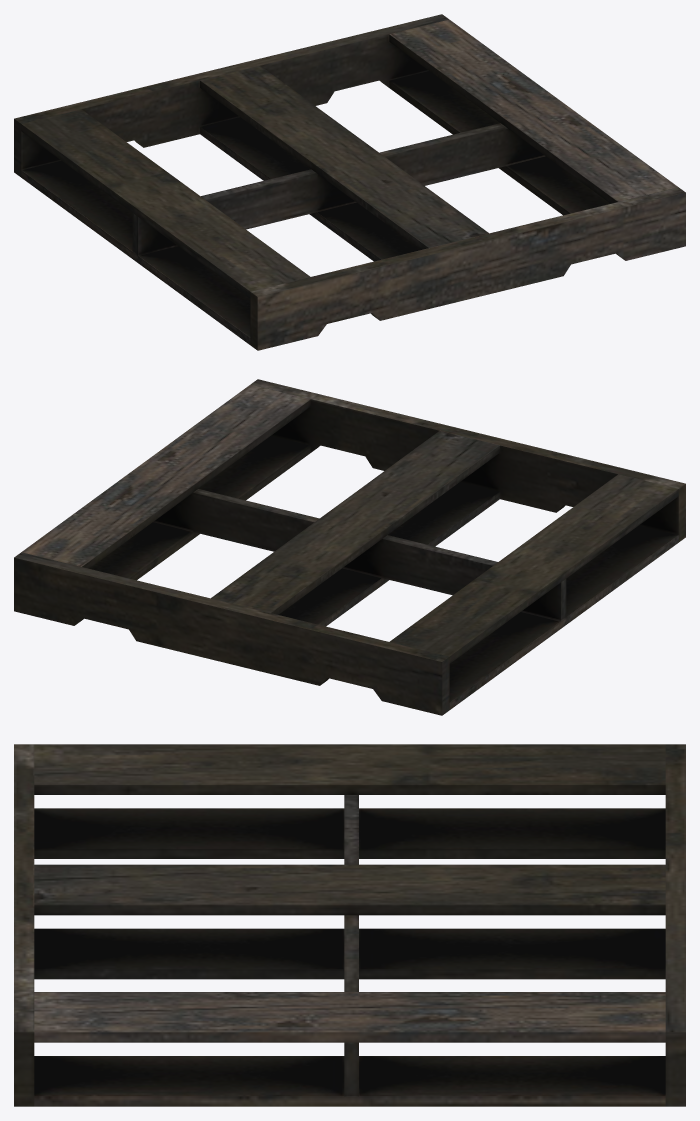
File: CrateBaseStand_L.FBX
3 views of the same model, one above another, from view 1: azimuth 30°, elevation 25°; view 2: azimuth 150°, elevation 25°; view 3: azimuth 270°, elevation 25° (orthographic). The views are drawn at different scales.
Parts seen in each view (by area): view 1: CrateBaseStand_L; view 2: CrateBaseStand_L; view 3: CrateBaseStand_L.
Boxes of the visible parts, x1=… form: CrateBaseStand_L: x1=14, y1=14, x2=685, y2=350; CrateBaseStand_L: x1=14, y1=379, x2=685, y2=715; CrateBaseStand_L: x1=14, y1=744, x2=685, y2=1106.
Bounding box in the file's own units: 130 × 15.62 × 128.
